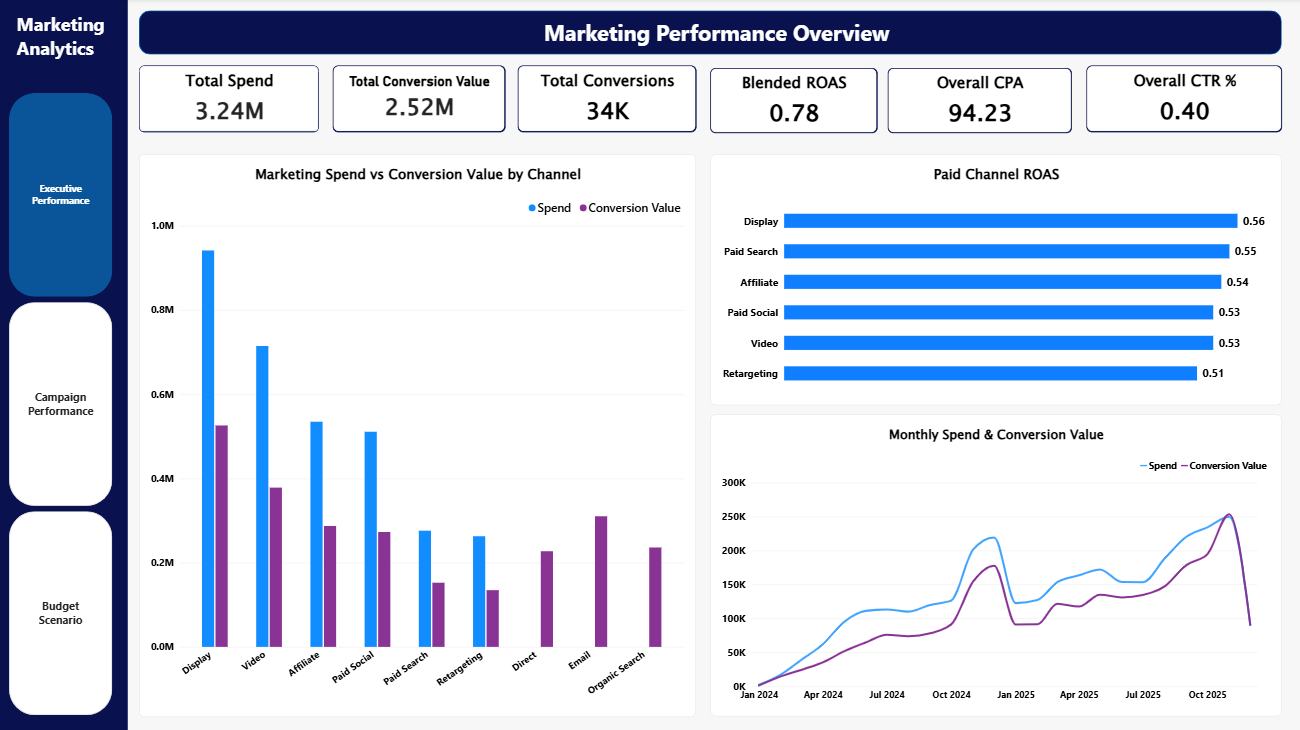

What the dashboard file says about the page in this screenshot:
{"tool":"powerbi","page":{"name":"Executive Performance","canvas":[1920,1080],"ordinal":0},"visuals":[{"type":"cardVisual","fields":{"Data":["channel_performance.Total Conversion Value"]},"box":[490.5,100.2,254.7,98.1],"z":0},{"type":"cardVisual","fields":{"Data":["channel_performance.Total Conversions"]},"box":[764,100.2,263,98.1],"z":1000},{"type":"cardVisual","fields":{"Data":["channel_performance.Overall ROAS"]},"box":[1047.9,102.3,246.3,96],"z":2000},{"type":"cardVisual","fields":{"Data":["channel_performance.Overall CPA"]},"box":[1308.8,102.3,271.4,96],"z":3000},{"type":"cardVisual","fields":{"Data":["channel_performance.Overall CTR %"]},"box":[1601,100.2,288.1,98.1],"z":4000},{"type":"shape","box":[0,0,190,1079.2],"z":5000},{"type":"textbox","box":[25,20.9,164.9,150.3],"z":6000},{"type":"pageNavigator","box":[14.6,139.9,152.4,918.5],"z":7000},{"type":"shape","box":[206.7,18.8,1682.5,64.7],"z":8000},{"type":"textbox","box":[801.6,29.2,931,43.8],"z":9000},{"type":"cardVisual","fields":{"Data":["channel_performance.Total Spend"]},"box":[206.7,100.2,265.1,98.1],"z":10000},{"type":"clusteredColumnChart","title":"Marketing Spend vs Conversion Value by Channel","fields":{"Category":["channel_performance.channel_name"],"Y":["Sum(channel_performance.spend)","Sum(channel_performance.conversion_value)"]},"box":[206.7,229.6,820.4,828.7],"z":11000},{"type":"clusteredBarChart","title":"Paid Channel ROAS","fields":{"Category":["channel_performance.channel_name"],"Y":["Avg(channel_performance.roas)"]},"box":[1047.9,229.6,841.2,369.5],"z":12000},{"type":"lineChart","title":"Monthly Spend & Conversion Value","fields":{"Category":["monthly_performance.month"],"Y":["Sum(monthly_performance.spend)","Sum(monthly_performance.conversion_value)"]},"box":[1047.9,613.7,841.2,444.6],"z":13000}]}

Visuals, with their boxes in screenshot pixels (x1, y1, x2, y2), scaled from the page's 1920x1080 canvas onto the 1300x730 screenshot:
cardVisual - channel_performance.Total Conversion Value: box=[332, 68, 505, 134]
cardVisual - channel_performance.Total Conversions: box=[517, 68, 695, 134]
cardVisual - channel_performance.Overall ROAS: box=[710, 69, 876, 134]
cardVisual - channel_performance.Overall CPA: box=[886, 69, 1070, 134]
cardVisual - channel_performance.Overall CTR %: box=[1084, 68, 1279, 134]
shape: box=[0, 0, 129, 729]
textbox: box=[17, 14, 129, 116]
pageNavigator: box=[10, 95, 113, 715]
shape: box=[140, 13, 1279, 56]
textbox: box=[543, 20, 1173, 49]
cardVisual - channel_performance.Total Spend: box=[140, 68, 319, 134]
"Marketing Spend vs Conversion Value by Channel" clusteredColumnChart: box=[140, 155, 695, 715]
"Paid Channel ROAS" clusteredBarChart: box=[710, 155, 1279, 405]
"Monthly Spend & Conversion Value" lineChart: box=[710, 415, 1279, 715]
